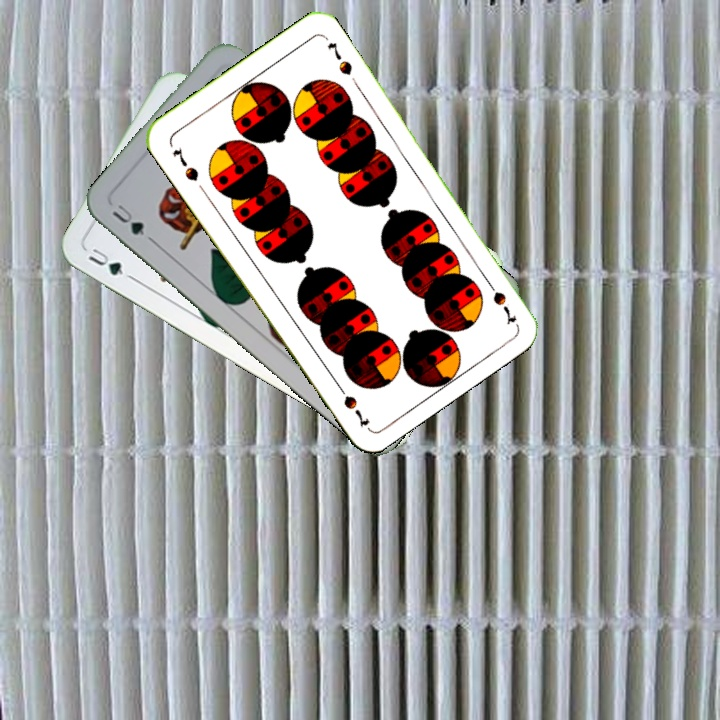GU: (84, 242, 136, 282), (108, 200, 147, 239)
S7: (481, 274, 519, 327), (168, 142, 202, 184)
